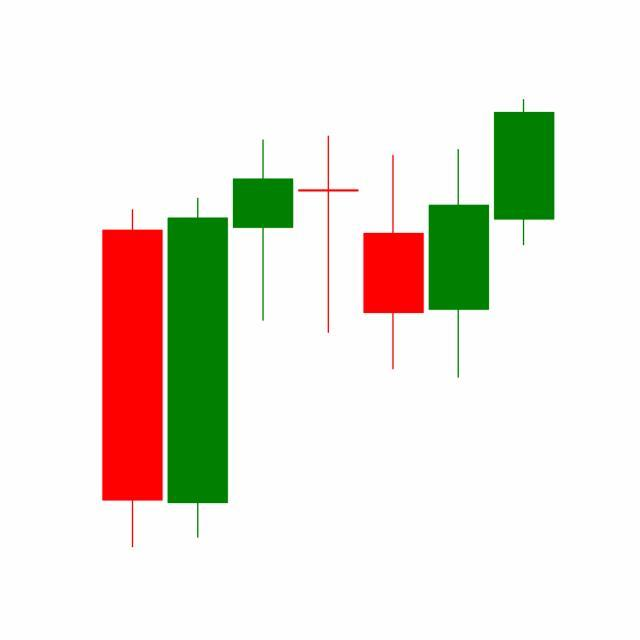Tasuki Gap: (295, 133, 492, 382)
